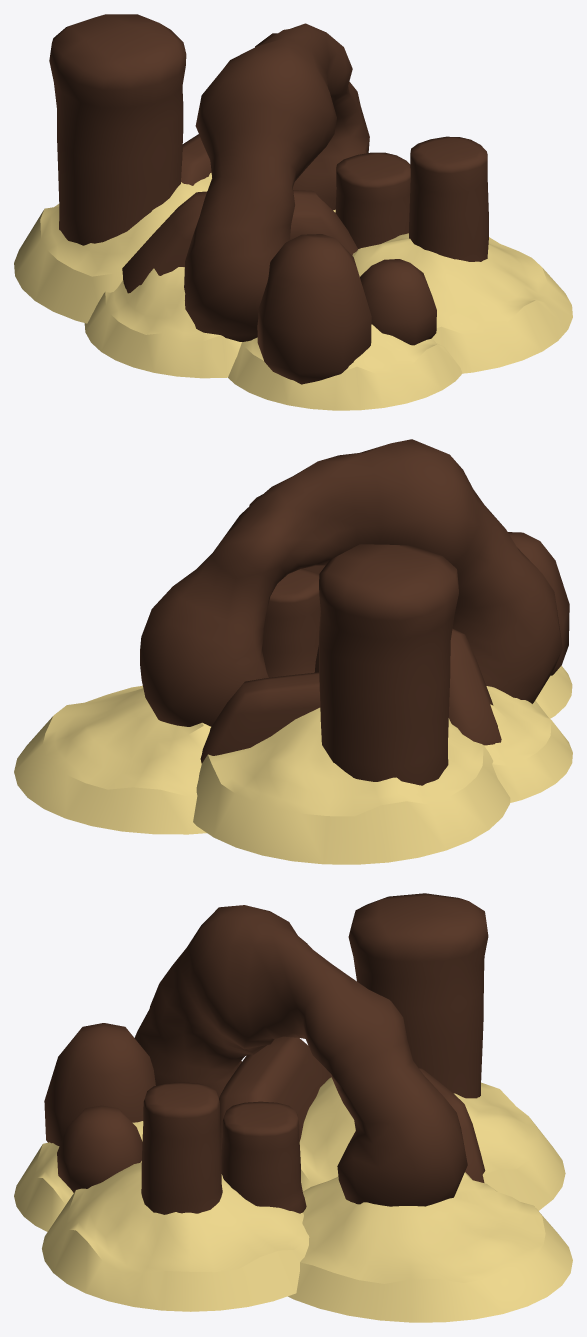
The model's file is MountainIslandLowPoly.fbx.
The picture shows the model from 3 angles, top to bottom: view 1: azimuth 30°, elevation 25°; view 2: azimuth 150°, elevation 25°; view 3: azimuth 270°, elevation 25°; orthographic projection. The views are drawn at different scales.
Parts seen in each view (by area): view 1: Cube.002; view 2: Cube.002; view 3: Cube.002.
Part boxes in pixels (x1=…): Cube.002: x1=14, y1=14, x2=572, y2=410; Cube.002: x1=14, y1=439, x2=572, y2=864; Cube.002: x1=14, y1=893, x2=572, y2=1322.
Bounding box in the file's own units: 330 × 291 × 183.
